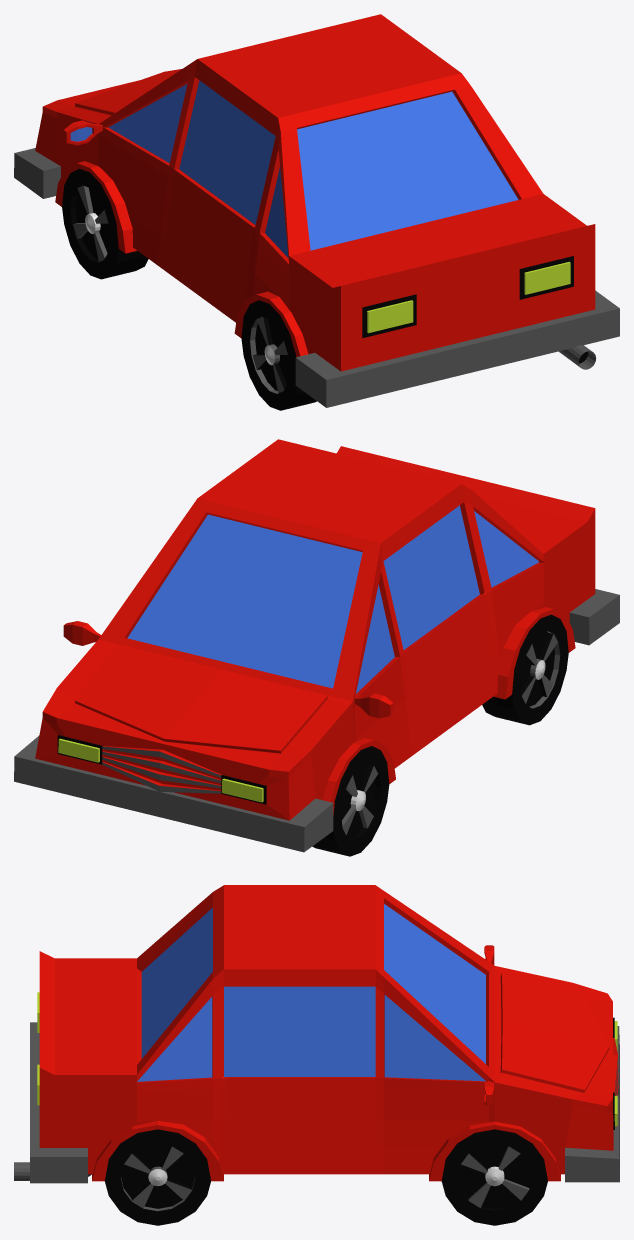
File: car_7.fbx
3 views of the same model, one above another, from view 1: azimuth 30°, elevation 25°; view 2: azimuth 150°, elevation 25°; view 3: azimuth 270°, elevation 25° (orthographic). The views are drawn at different scales.
Visible parts, largest first — view 1: Car1; view 2: Car1; view 3: Car1.
Boxes of the visible parts, left/top/right/bottom form: Car1: left=14, top=14, right=619, bottom=410; Car1: left=14, top=439, right=619, bottom=856; Car1: left=14, top=885, right=619, bottom=1225.
Size of the model in its own units: 73.11 by 53.96 by 125.
